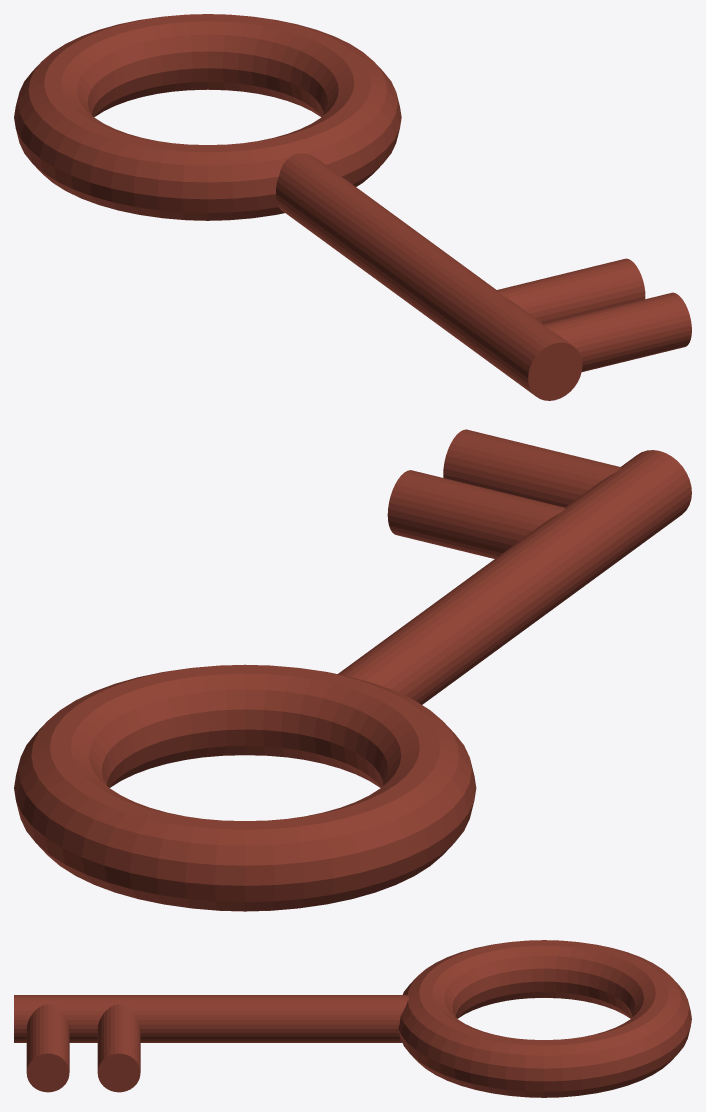
The model's file is key_red.fbx.
3 renders of one model, top to bottom at view 1: azimuth 30°, elevation 25°; view 2: azimuth 150°, elevation 25°; view 3: azimuth 270°, elevation 25°, orthographic. The views are drawn at different scales.
Visible parts, largest first — view 1: Torus.001, Cylinder, Cylinder.002, Cylinder.001; view 2: Torus.001, Cylinder, Cylinder.001, Cylinder.002; view 3: Torus.001, Cylinder, Cylinder.001, Cylinder.002.
Boxes of the visible parts, <box> form: Torus.001: <box>14,14,401,220</box>; Cylinder: <box>276,153,582,400</box>; Cylinder.002: <box>543,292,691,371</box>; Cylinder.001: <box>496,258,645,323</box>; Torus.001: <box>14,664,476,911</box>; Cylinder: <box>338,450,691,704</box>; Cylinder.001: <box>387,470,565,558</box>; Cylinder.002: <box>443,429,620,507</box>; Torus.001: <box>398,940,691,1097</box>; Cylinder: <box>14,995,408,1042</box>; Cylinder.001: <box>97,1004,140,1092</box>; Cylinder.002: <box>26,1004,69,1092</box>.
Bounding box in the file's own units: 250 × 48.75 × 573.
